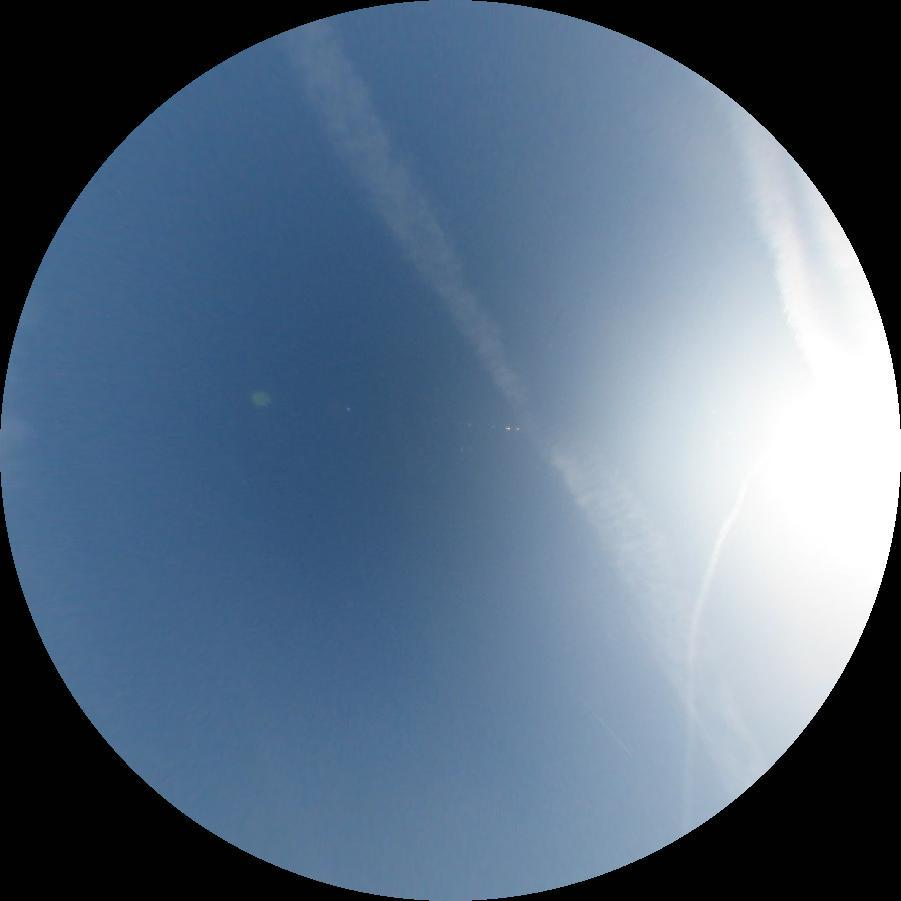contrail old: (653, 463, 755, 837)
contrail veryold: (263, 5, 805, 790), (717, 88, 857, 406)
contrail young: (591, 710, 633, 756)
sun: (753, 400, 901, 549)
